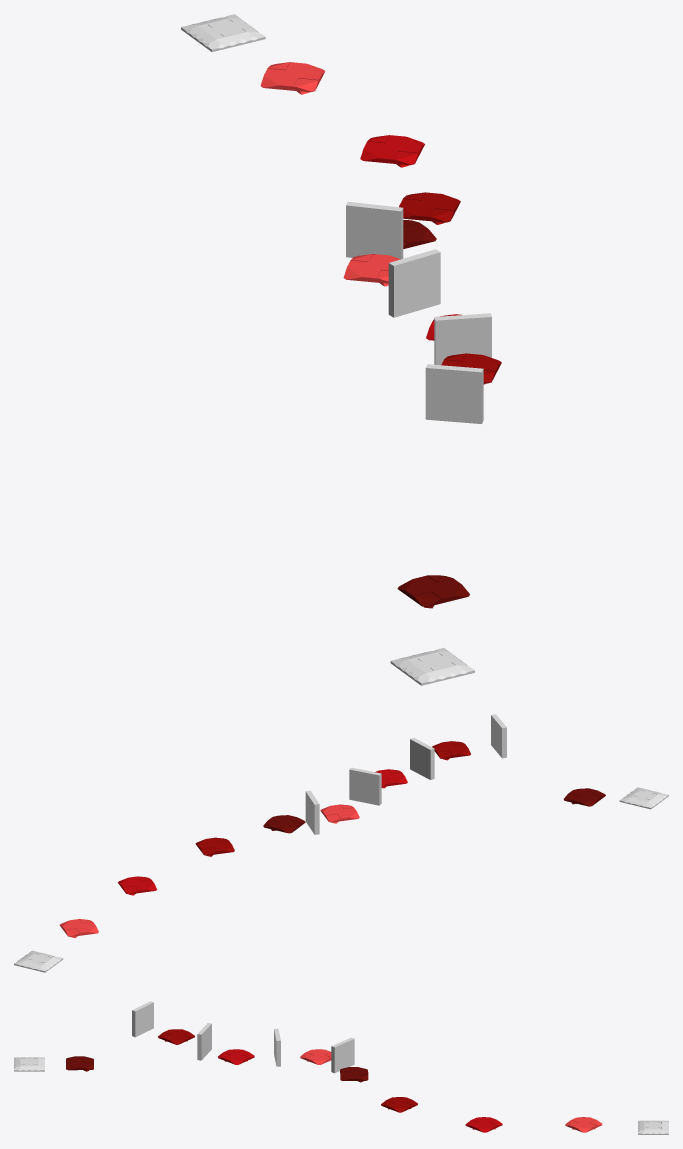
The model's file is salle_1_game_jam.glb.
The picture shows the model from 3 angles, top to bottom: view 1: azimuth 30°, elevation 25°; view 2: azimuth 150°, elevation 25°; view 3: azimuth 270°, elevation 25°; orthographic projection. The views are drawn at different scales.
Visible parts, largest first — view 1: Cube.012, Cube.009, Cube.010, Cube.011, Cube.004, Cube.013, Cube.008, Cube.001, Cube, Cube.002, Cube.005; view 2: Cube.010, Cube.011, Cube.004, Cube.013, Cube.012, Cube.003, Cube.008, Cube.005, Cube, Cube.001, Cube.002, Cube.009 (+2 smaller); view 3: Cube.009, Cube.012, Cube.004, Cube.013, Cube.011, Cube.001, Cube, Cube.002, Cube.006, Cube.007, Cube.003, Cube.008 (+2 smaller).
Boxes of the visible parts, x1,y1,x2,y2 form: Cube.012: (425, 364, 483, 423); Cube.009: (346, 201, 403, 259); Cube.010: (388, 249, 440, 317); Cube.011: (434, 313, 491, 365); Cube.004: (181, 14, 265, 51); Cube.013: (390, 648, 474, 685); Cube.008: (397, 575, 469, 608); Cube.001: (360, 135, 424, 167); Cube: (260, 62, 325, 94); Cube.002: (399, 192, 460, 224); Cube.005: (343, 254, 400, 286); Cube.010: (349, 767, 381, 805); Cube.011: (410, 738, 434, 779); Cube.004: (14, 950, 63, 972); Cube.013: (619, 787, 668, 809); Cube.012: (491, 714, 506, 758); Cube.003: (263, 815, 305, 833); Cube.008: (563, 788, 605, 806); Cube.005: (320, 804, 359, 823); Cube: (59, 919, 98, 938); Cube.001: (118, 876, 156, 895); Cube.002: (195, 837, 234, 856); Cube.009: (305, 790, 319, 834); Cube.009: (331, 1037, 354, 1073); Cube.012: (132, 1001, 153, 1037); Cube.004: (638, 1120, 668, 1134); Cube.013: (14, 1057, 44, 1071); Cube.011: (197, 1023, 211, 1060); Cube.001: (465, 1117, 502, 1132); Cube: (565, 1117, 602, 1132); Cube.002: (381, 1097, 417, 1112); Cube.006: (218, 1049, 254, 1064); Cube.007: (158, 1029, 194, 1044); Cube.003: (340, 1067, 368, 1082); Cube.008: (66, 1056, 93, 1071).
Size of the model in its own units: 78.11 by 28.94 by 187.
